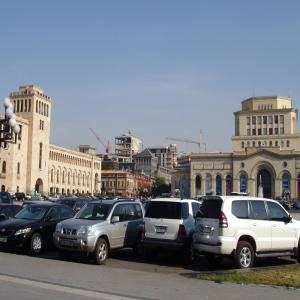Vehicle-registration-plate: (62, 240, 74, 248), (158, 227, 167, 235), (202, 228, 212, 235), (1, 238, 8, 244)
